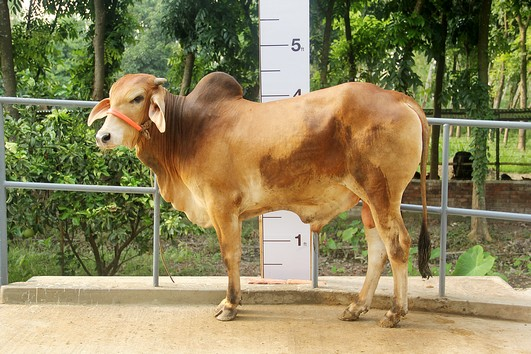cow: (83, 65, 441, 332)
